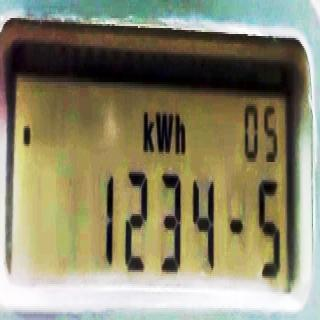-: (228, 207, 244, 245), (22, 120, 32, 155)
0: (243, 97, 260, 170)
1: (104, 167, 115, 277)
2: (122, 164, 150, 279)
3: (157, 161, 185, 286)
4: (192, 170, 219, 280)
5: (256, 168, 283, 291), (262, 101, 280, 170)
